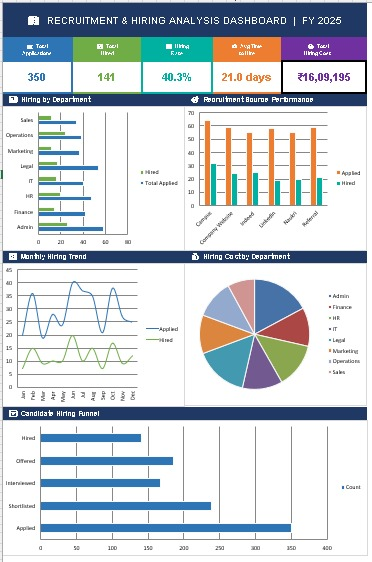

Layout of this report page (visuals, bound fields, positions):
{"tool":"powerbi","page":{"name":"Page 1","canvas":[1280,720],"ordinal":0},"visuals":[{"type":"textbox","box":[0,0,1280.3,89.3],"z":0},{"type":"card","fields":{"Values":["Recruitment_Data.Total Hiring Cost"]},"box":[0,89.5,239.5,102.4],"z":3000},{"type":"card","fields":{"Values":["Recruitment_Data.Avg Time to Hire"]},"box":[744.5,89.5,271.2,102.4],"z":4000},{"type":"card","fields":{"Values":["Recruitment_Data.Total Applications"]},"box":[1015.7,89.5,264,102.4],"z":4002},{"type":"card","fields":{"Values":["Recruitment_Data.Total Hired"]},"box":[487.7,89.5,256.8,102.4],"z":4003},{"type":"card","fields":{"Values":["Recruitment_Data.Hiring Rate"]},"box":[239.5,89.5,248.2,102.4],"z":4004},{"type":"funnel","fields":{"Category":["Recruitment_Data.Funnel Stage"],"Y":["CountNonNull(Recruitment_Data.Candidate ID)"]},"box":[487.7,191.9,363.6,264],"z":4005},{"type":"lineChart","fields":{"Category":["Recruitment_Data.Applied Date.Variation.Date Hierarchy.Month"],"Y":["CountNonNull(Recruitment_Data.Candidate ID)"]},"box":[520.8,455.9,359.2,264],"z":4006},{"type":"barChart","fields":{"Category":["Recruitment_Data.Source"],"Y":["Recruitment_Data.Total Hired"]},"box":[189,191.9,298.7,264],"z":4007},{"type":"clusteredBarChart","fields":{"Category":["Recruitment_Data.Department"],"Y":["Recruitment_Data.Total Hired","Recruitment_Data.Avg Time to Hire"]},"box":[189,455.9,326.1,264],"z":4008},{"type":"scatterChart","fields":{"X":["Sum(Recruitment_Data.Time to Hire)"],"Y":["Recruitment_Data.Total Hiring Cost"]},"box":[880.1,455.9,398.2,264],"z":4009},{"type":"slicer","fields":{"Values":["Recruitment_Data.Department"]},"box":[851.2,191.9,164.5,264],"z":4010},{"type":"slicer","fields":{"Values":["Recruitment_Data.Source"]},"box":[0,191.9,189,528.1],"z":4011},{"type":"slicer","fields":{"Values":["Recruitment_Data.Status"]},"box":[1015.7,301.5,262.6,154.4],"z":4012},{"type":"slicer","fields":{"Values":["Recruitment_Data.Applied Date"]},"box":[1014.3,191.9,264,109.6],"z":4014}]}

Visuals, with their boxes on the page's 1280x720 design canvas (x1, y1, x2, y2). These are canvas units, not pixel positions in the 372x562 screenshot, which may show the page scaled, cropped or inside an application window:
textbox: box(0, 0, 1280, 89)
card - Recruitment_Data.Total Hiring Cost: box(0, 90, 240, 192)
card - Recruitment_Data.Avg Time to Hire: box(744, 90, 1016, 192)
card - Recruitment_Data.Total Applications: box(1016, 90, 1280, 192)
card - Recruitment_Data.Total Hired: box(488, 90, 744, 192)
card - Recruitment_Data.Hiring Rate: box(240, 90, 488, 192)
funnel - Recruitment_Data.Funnel Stage x CountNonNull(Recruitment_Data.Candidate ID): box(488, 192, 851, 456)
lineChart - Recruitment_Data.Applied Date.Variation.Date Hierarchy.Month x CountNonNull(Recruitment_Data.Candidate ID): box(521, 456, 880, 720)
barChart - Recruitment_Data.Source x Recruitment_Data.Total Hired: box(189, 192, 488, 456)
clusteredBarChart - Recruitment_Data.Department x Recruitment_Data.Total Hired: box(189, 456, 515, 720)
scatterChart - Sum(Recruitment_Data.Time to Hire) x Recruitment_Data.Total Hiring Cost: box(880, 456, 1278, 720)
slicer - Recruitment_Data.Department: box(851, 192, 1016, 456)
slicer - Recruitment_Data.Source: box(0, 192, 189, 720)
slicer - Recruitment_Data.Status: box(1016, 302, 1278, 456)
slicer - Recruitment_Data.Applied Date: box(1014, 192, 1278, 302)
